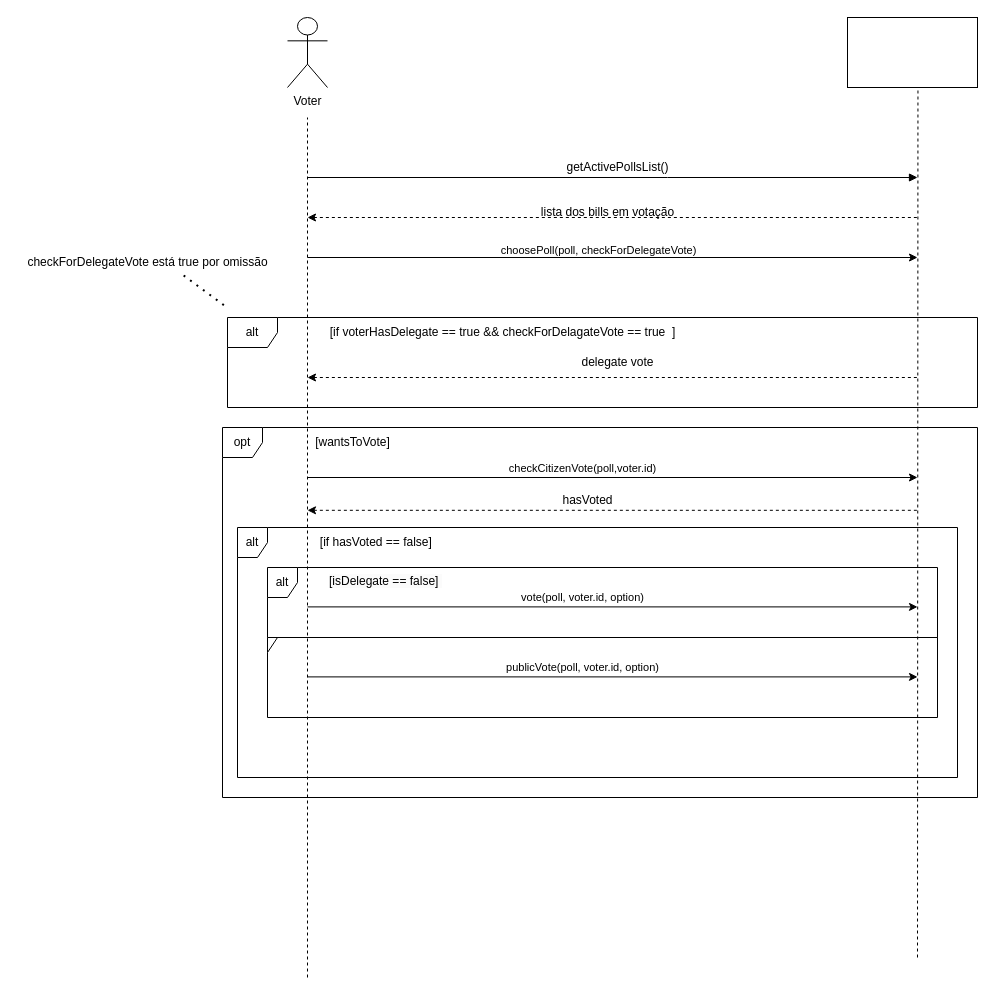
This 995x996 diagram has some shape labels left out. The shapes that lost their labels are listed below. From the top down, each one's centre as x and y in pixels, then its label:
At (x=912, y=52): ":Democracia2.0".
At (x=602, y=677): "[else]".
